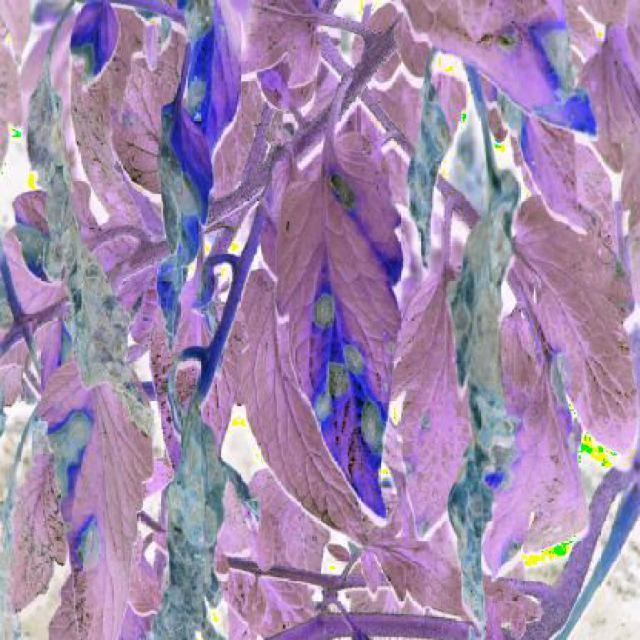Tomato Early blight leaf: (478, 191, 638, 577), (280, 131, 398, 524), (44, 351, 150, 638), (444, 6, 598, 139), (158, 100, 212, 334), (176, 3, 242, 145)
